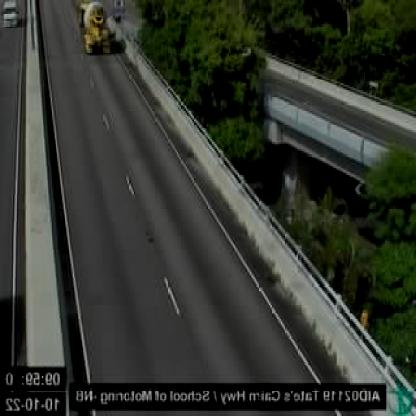Car: (1, 0, 18, 27)
Truck: (77, 0, 112, 52)
